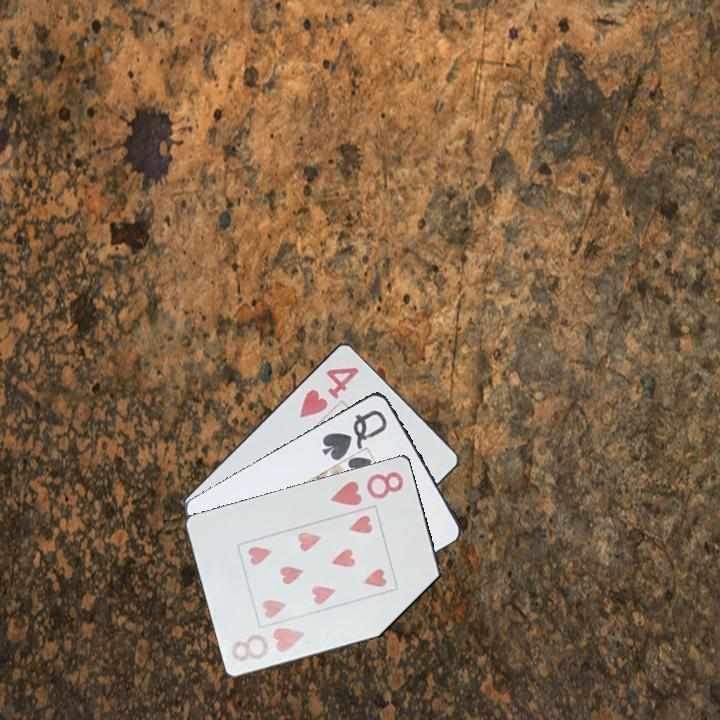4h: (295, 363, 362, 421)
8h: (227, 623, 308, 664), (327, 468, 407, 509)
Qs: (318, 406, 390, 463)
